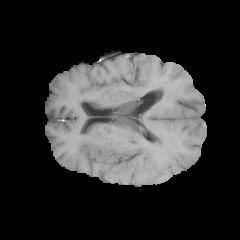glioma: (83, 136, 175, 173)
